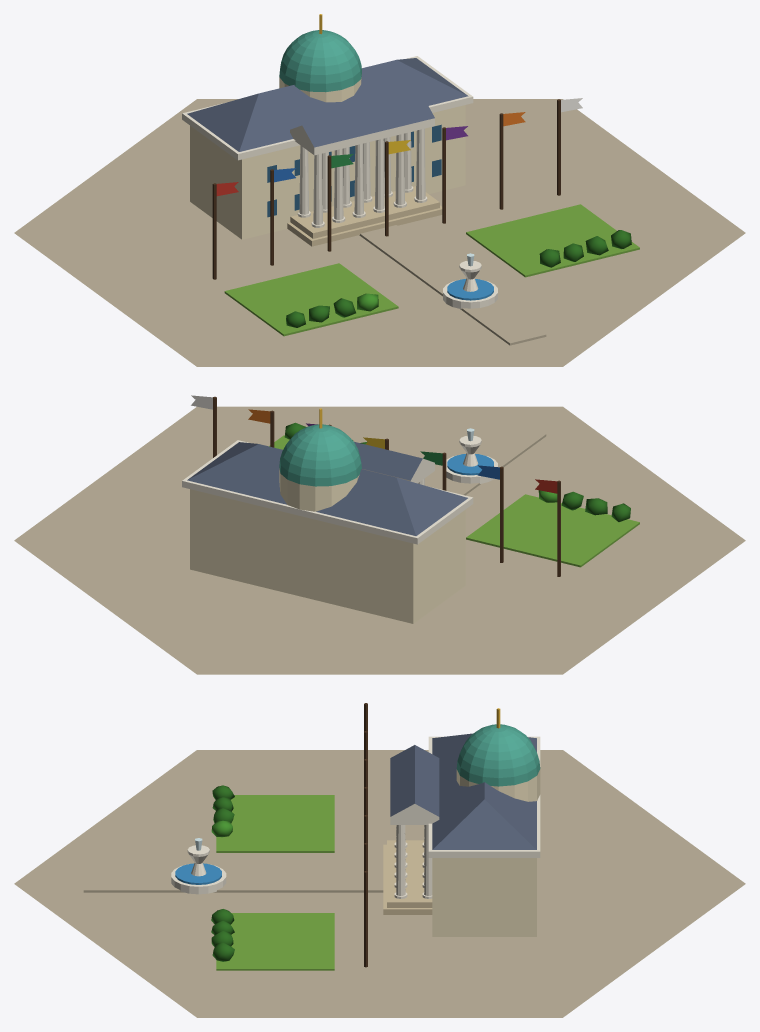
File: district_diplomatic_quarter_2.fbx
The picture shows the model from 3 angles, top to bottom: view 1: azimuth 30°, elevation 25°; view 2: azimuth 150°, elevation 25°; view 3: azimuth 270°, elevation 25°; orthographic projection.
Parts seen in each view (by area): view 1: district_diplomatic_quarter_2; view 2: district_diplomatic_quarter_2; view 3: district_diplomatic_quarter_2.
Part boxes in pixels (x1,y1,x2,y2): district_diplomatic_quarter_2: (14,14,745,366); district_diplomatic_quarter_2: (14,395,745,674); district_diplomatic_quarter_2: (14,703,745,1017).
Size of the model in its own units: 182 by 55.4 by 210.
